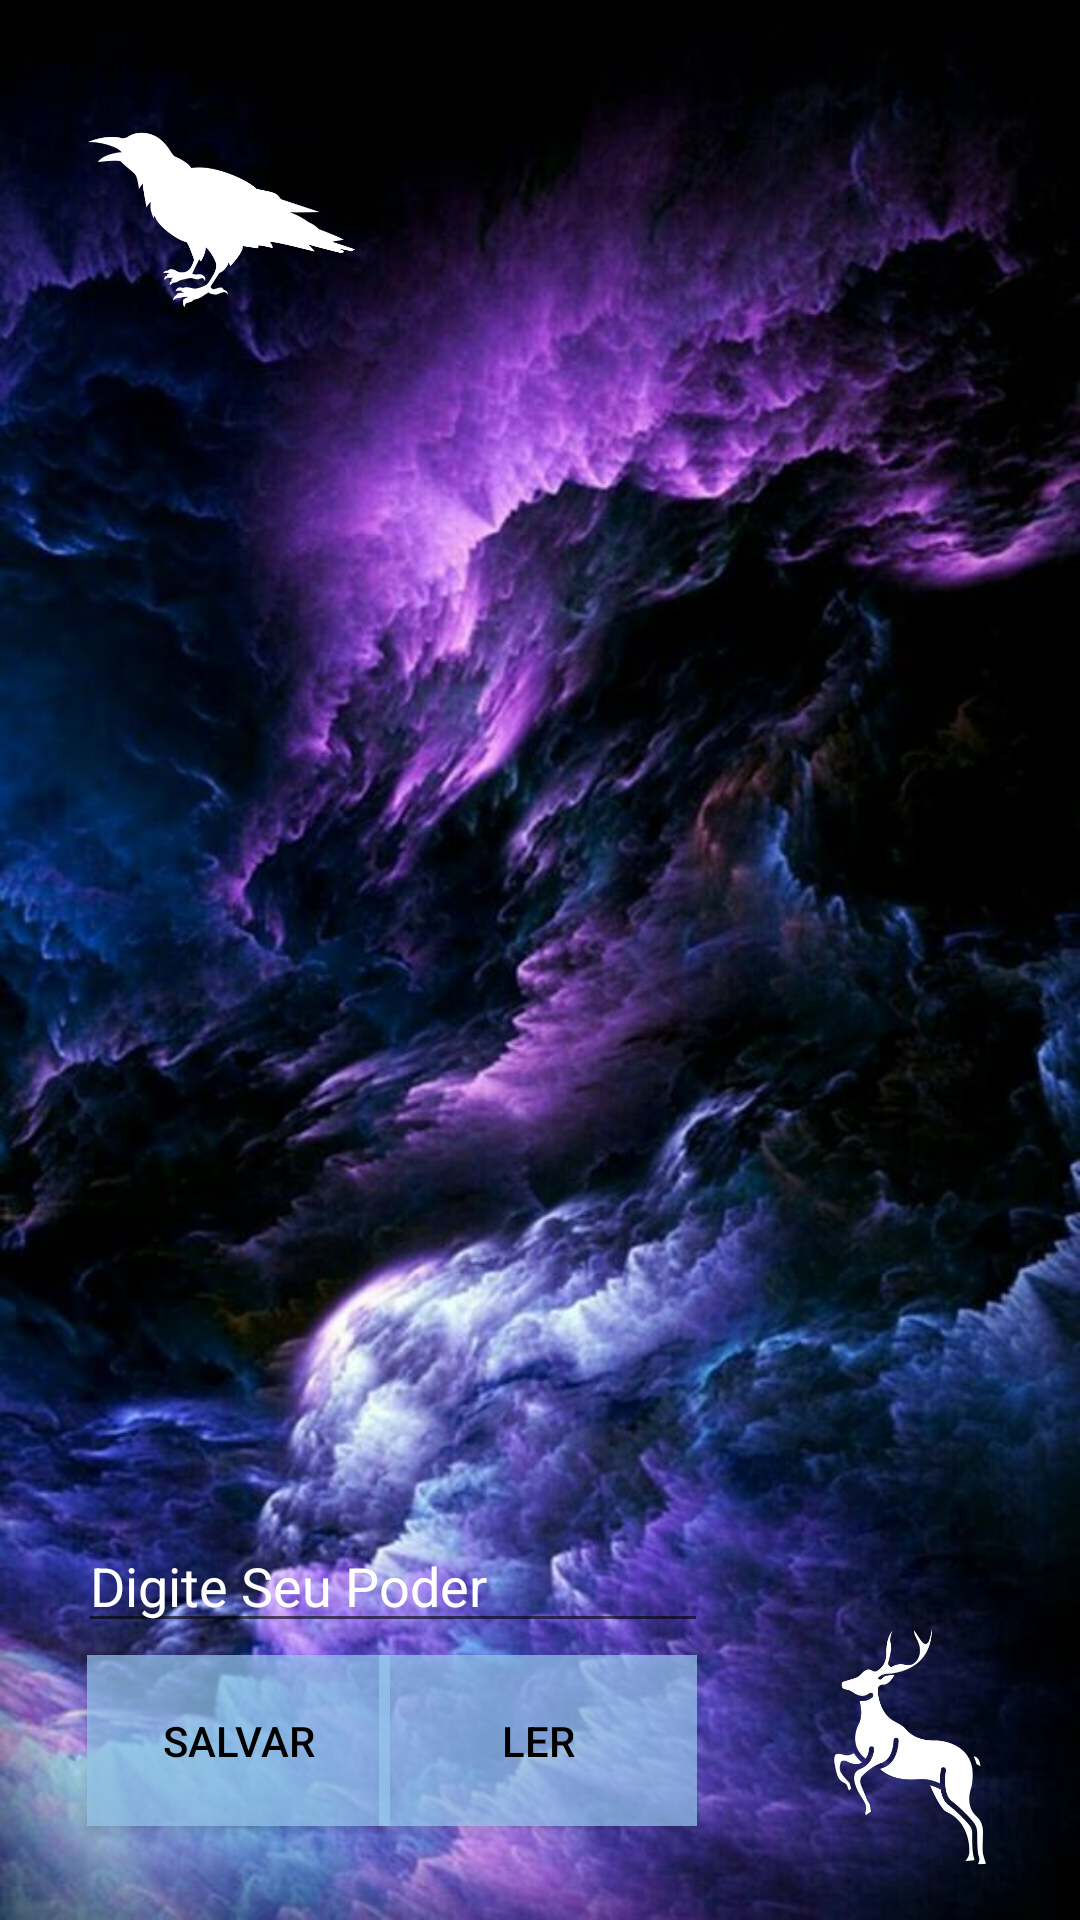

Point at icon controls on the screen. Image size 1080*1920, points as (x=x, y=y).
cervo: (x=910, y=1745)
corvo: (x=221, y=220)
